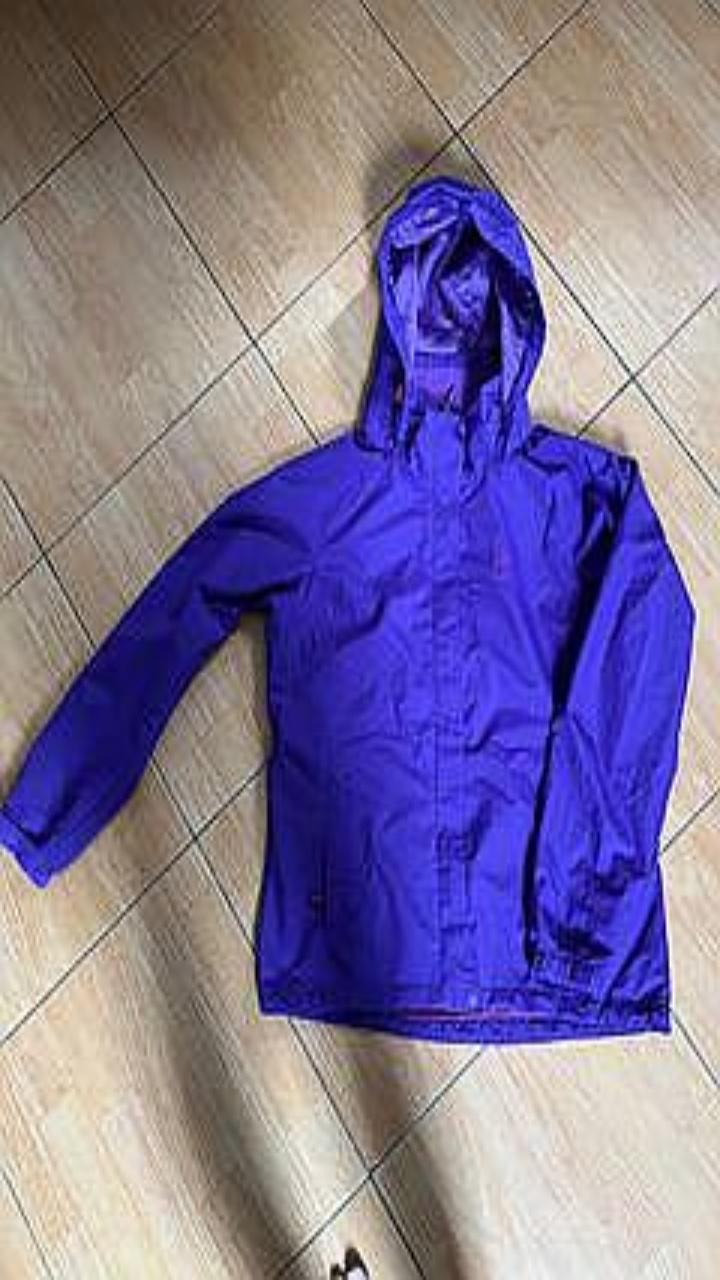Sports_Jacket: (0, 177, 694, 1041)
